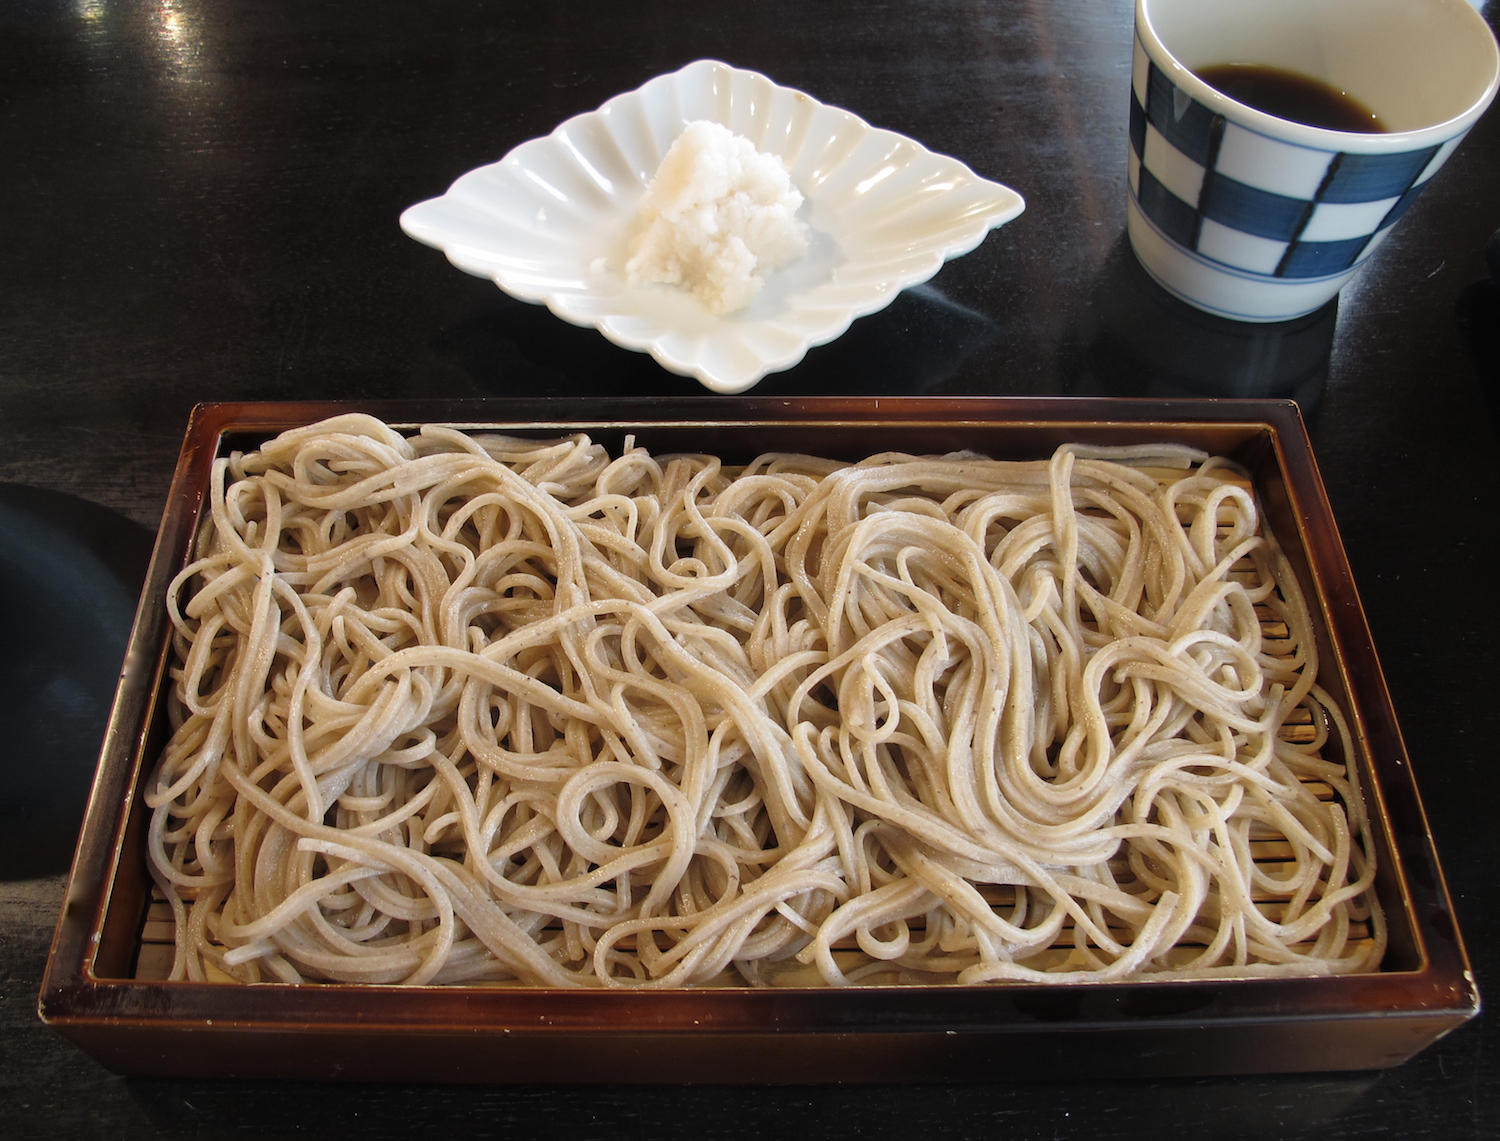Soba: (170, 398, 1401, 982)
